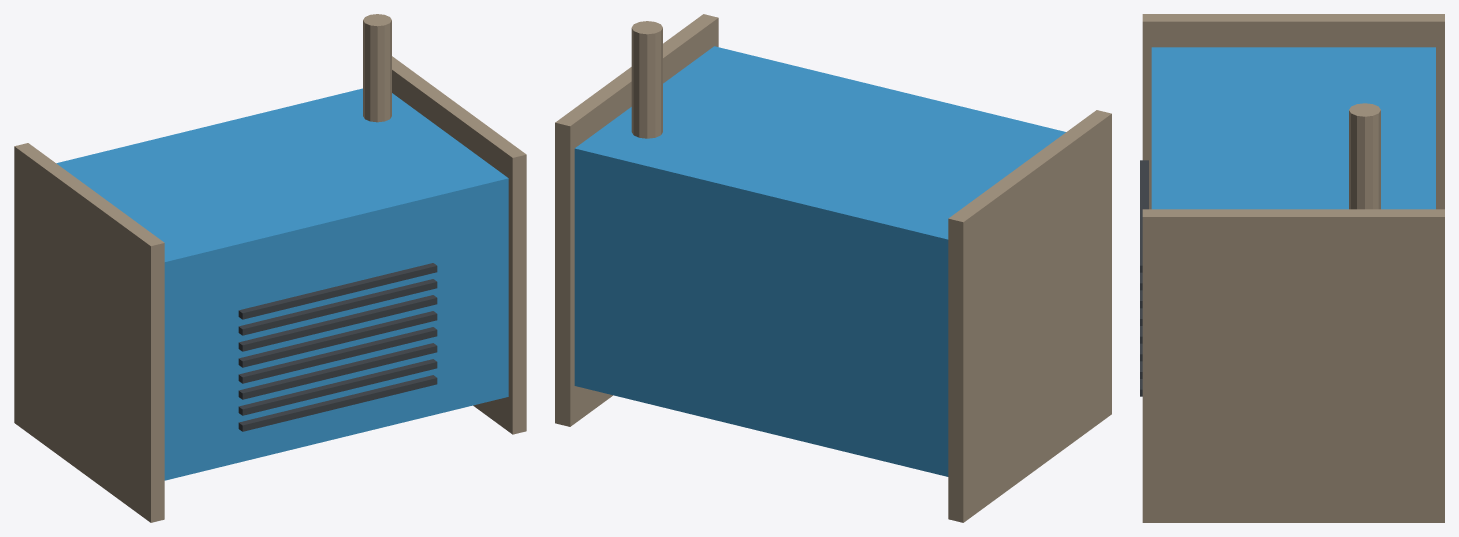
File: stock-car-oval-speedway-generator-d30ee7ce__16954.glb
3 renders of one model, left to right at view 1: azimuth 30°, elevation 25°; view 2: azimuth 150°, elevation 25°; view 3: azimuth 270°, elevation 25°, orthographic. The views are drawn at different scales.
Parts seen in each view (by area): view 1: generator; view 2: generator; view 3: generator.
Boxes of the visible parts, bbox=[...] form: generator: bbox=[14, 14, 526, 522]; generator: bbox=[555, 14, 1111, 522]; generator: bbox=[1140, 14, 1444, 522].
Size of the model in its own units: 1.35 by 1.2 by 0.8575.
